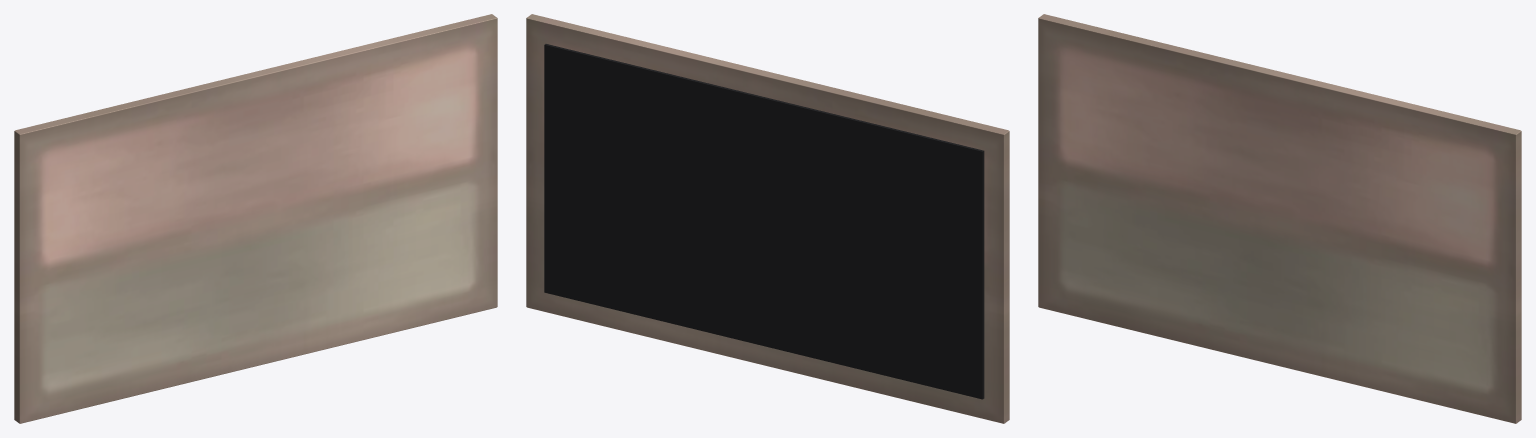
Rendered from art_colorfield_dawn.gltf.
3 renders of one model, left to right at view 1: azimuth 30°, elevation 25°; view 2: azimuth 150°, elevation 25°; view 3: azimuth 330°, elevation 25°, orthographic.
Parts seen in each view (by area): view 1: Art_ColorfieldDawn_Art; view 2: Art_ColorfieldDawn_Spacer, Art_ColorfieldDawn_Art; view 3: Art_ColorfieldDawn_Art.
Boxes of the visible parts, x1,y1,x2,y2 form: Art_ColorfieldDawn_Art: (14,14,497,423); Art_ColorfieldDawn_Spacer: (544,44,984,399); Art_ColorfieldDawn_Art: (526,14,1009,423); Art_ColorfieldDawn_Art: (1038,14,1521,423).
Size of the model in its own units: 1.9 by 1.1 by 0.05.
2 materials, 1 textured.
